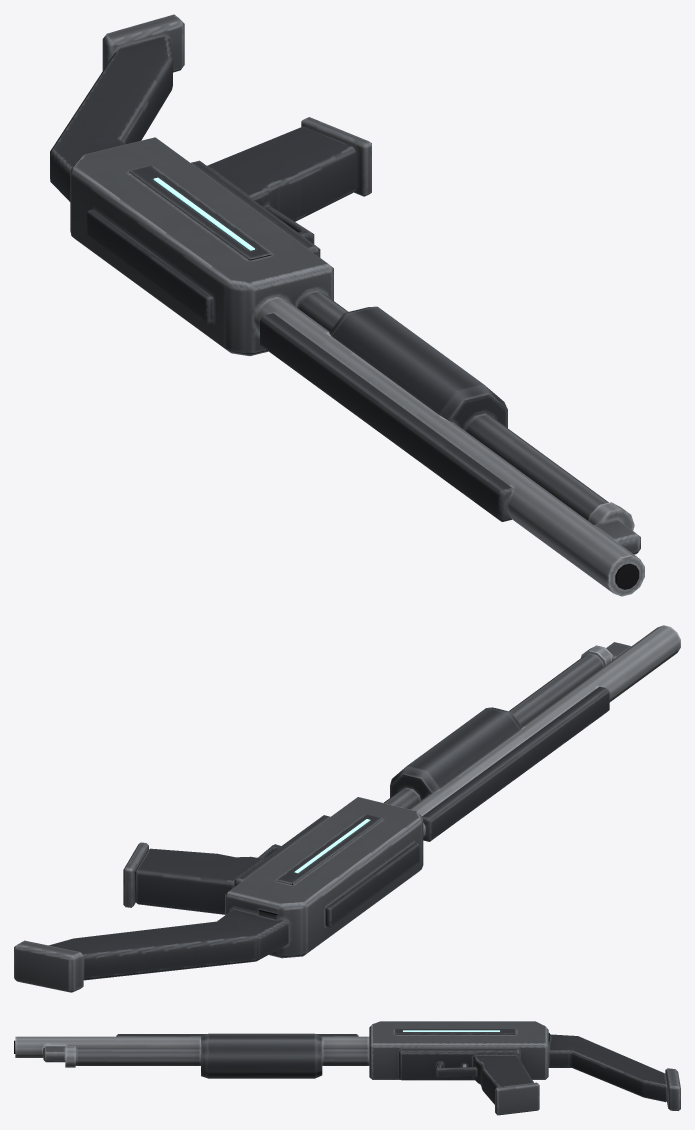
File: pickup_shotgun.glb
3 views of the same model, one above another, from view 1: azimuth 30°, elevation 25°; view 2: azimuth 150°, elevation 25°; view 3: azimuth 270°, elevation 25° (orthographic). The views are drawn at different scales.
Parts seen in each view (by area): view 1: pickup_shotgun; view 2: pickup_shotgun; view 3: pickup_shotgun.
Part boxes in pixels (x1,y1,x2,y2): pickup_shotgun: (50, 14, 644, 596); pickup_shotgun: (14, 625, 680, 992); pickup_shotgun: (14, 1021, 680, 1115).
Size of the model in its own units: 0.1946 by 0.0544 by 0.8253.
Materials: 2 (1 with a texture image).
